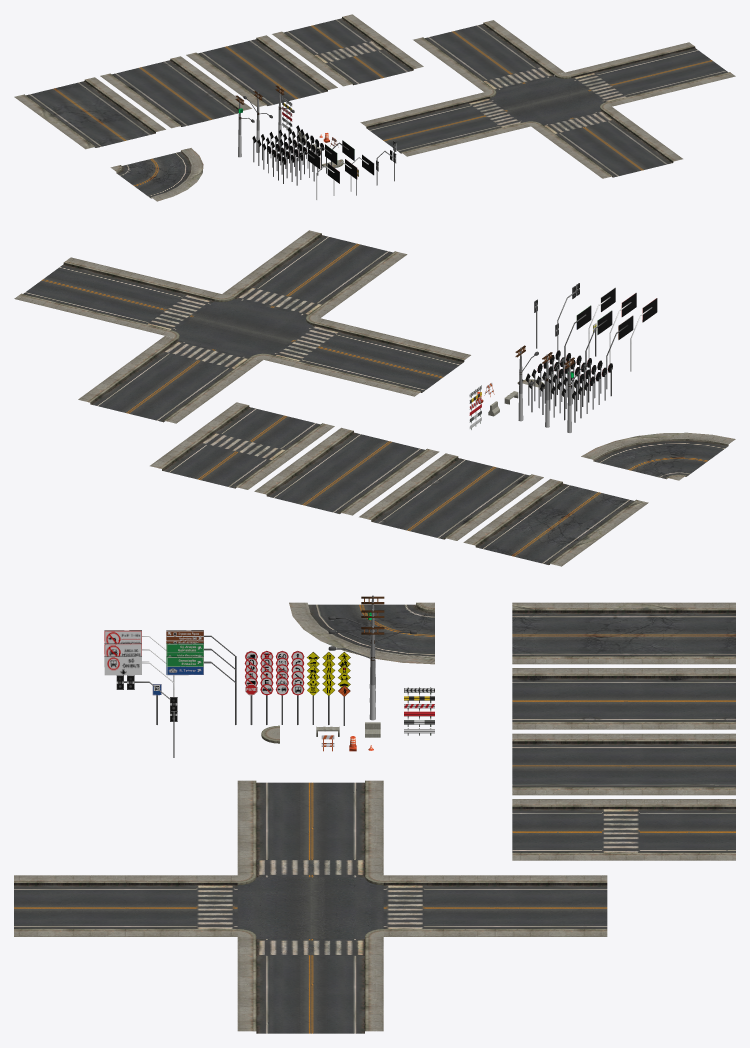
Rendered from mapa ruas.obj.
The picture shows the model from 3 angles, top to bottom: view 1: azimuth 30°, elevation 25°; view 2: azimuth 150°, elevation 25°; view 3: azimuth 270°, elevation 25°; orthographic projection. The views are drawn at different scales.
Parts seen in each view (by area): view 1: Plano.024, Plano, Plano.012, Plano.002, Plano.003, Plano.020, Plano.004, Plano.014, Plano.013; view 2: Plano.024, Plano, Plano.002, Plano.012, Plano.003, Plano.020, Plano.004, Plano.014, Plano.013; view 3: Plano.024, Plano, Plano.002, Plano.012, Plano.003, Plano.020, Plano.004, Plano.014, Plano.013, Cilindro.045, Cilindro.049.
Boxes of the visible parts, <box> form: Plano.024: <box>360,20,735,178</box>; Plano: <box>14,77,165,149</box>; Plano.012: <box>100,56,251,128</box>; Plano.002: <box>186,35,337,106</box>; Plano.003: <box>272,14,423,86</box>; Plano.020: <box>468,66,626,134</box>; Plano.004: <box>116,151,191,198</box>; Plano.014: <box>110,148,203,201</box>; Plano.013: <box>314,40,384,63</box>; Plano.024: <box>14,230,470,423</box>; Plano: <box>463,479,648,566</box>; Plano.002: <box>254,427,439,515</box>; Plano.012: <box>359,453,543,540</box>; Plano.003: <box>150,402,334,489</box>; Plano.020: <box>146,287,340,369</box>; Plano.004: <box>593,439,728,479</box>; Plano.014: <box>581,432,735,480</box>; Plano.013: <box>200,432,285,460</box>; Plano.024: <box>14,780,607,1033</box>; Plano: <box>512,602,735,664</box>; Plano.002: <box>512,733,735,795</box>; Plano.012: <box>512,668,735,729</box>; Plano.003: <box>512,799,735,860</box>; Plano.020: <box>196,859,424,955</box>; Plano.004: <box>308,603,434,656</box>; Plano.014: <box>289,602,434,664</box>; Plano.013: <box>602,808,639,852</box>; Cilindro.045: <box>166,656,236,724</box>; Cilindro.049: <box>104,656,174,696</box>.
Size of the model in its own units: 65.51 by 6.61 by 46.62.
Materials: 12 (12 with a texture image).
